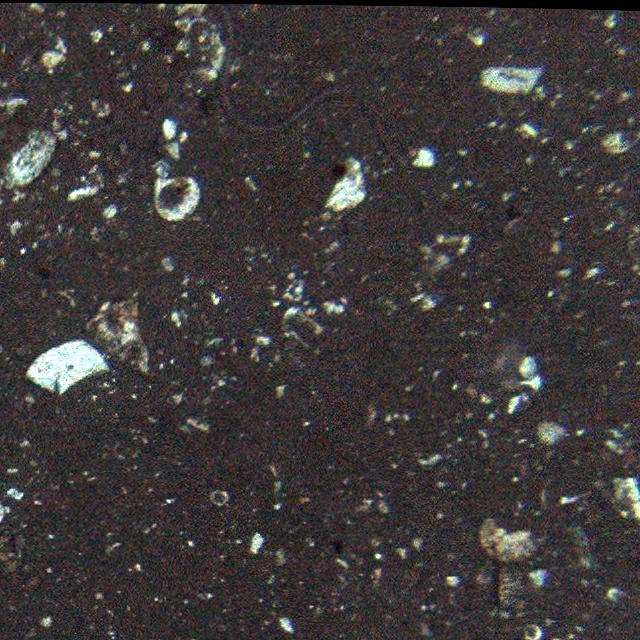eel: (209, 2, 412, 174)
